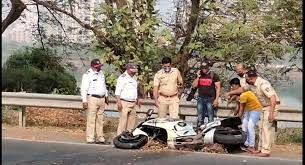accident: (113, 115, 242, 153)
